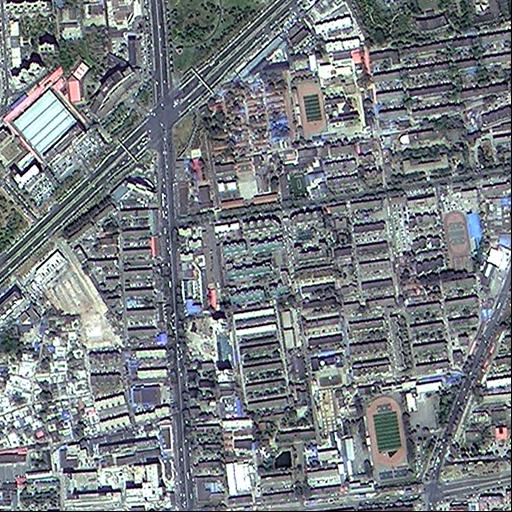school: (361, 375, 446, 484), (294, 70, 362, 138)
